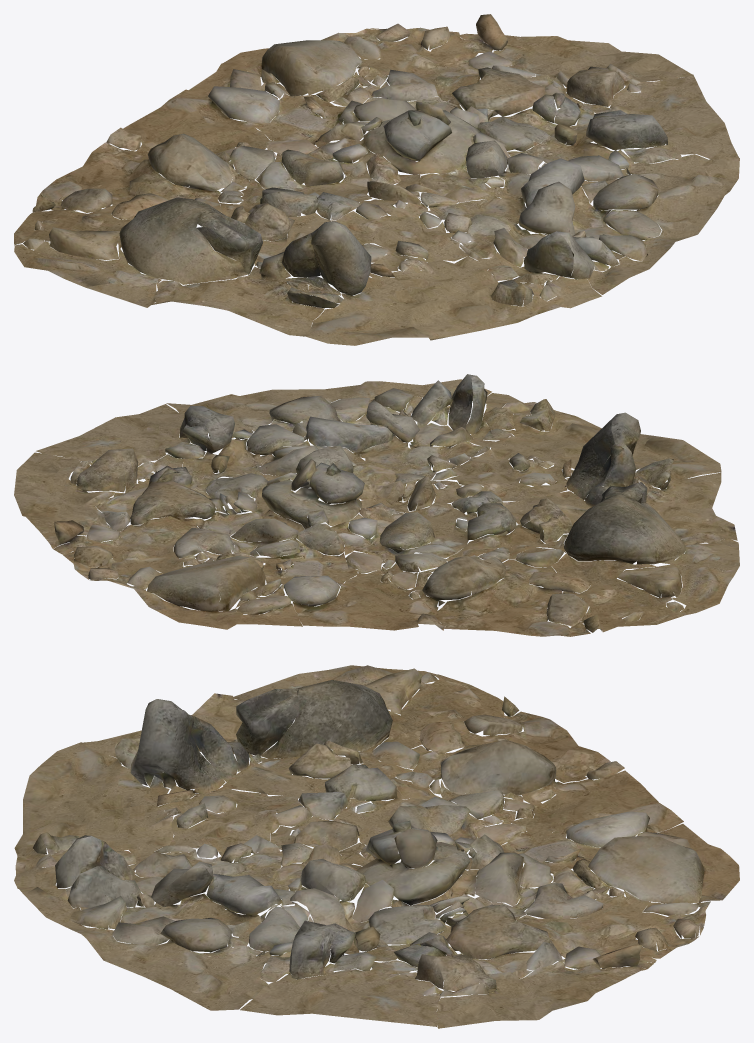
Rendered from sand_rocks_small_01.gltf.
3 views of the same model, one above another, from view 1: azimuth 30°, elevation 25°; view 2: azimuth 150°, elevation 25°; view 3: azimuth 270°, elevation 25° (orthographic). The views are drawn at different scales.
Parts seen in each view (by area): view 1: sand_rocks_small_01_LOD0; view 2: sand_rocks_small_01_LOD0; view 3: sand_rocks_small_01_LOD0.
Part boxes in pixels (x1,y1,x2,y2): sand_rocks_small_01_LOD0: [14, 14, 739, 345]; sand_rocks_small_01_LOD0: [14, 374, 739, 636]; sand_rocks_small_01_LOD0: [14, 665, 739, 1028].
Bounding box in the file's own units: 4.64 × 0.5326 × 3.88.
1 material, 1 textured.
